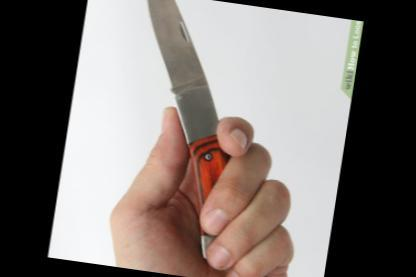knife: (95, 0, 301, 275)
